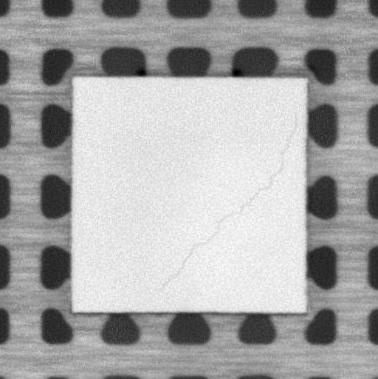DIE_CRACK: (159, 113, 299, 290)
